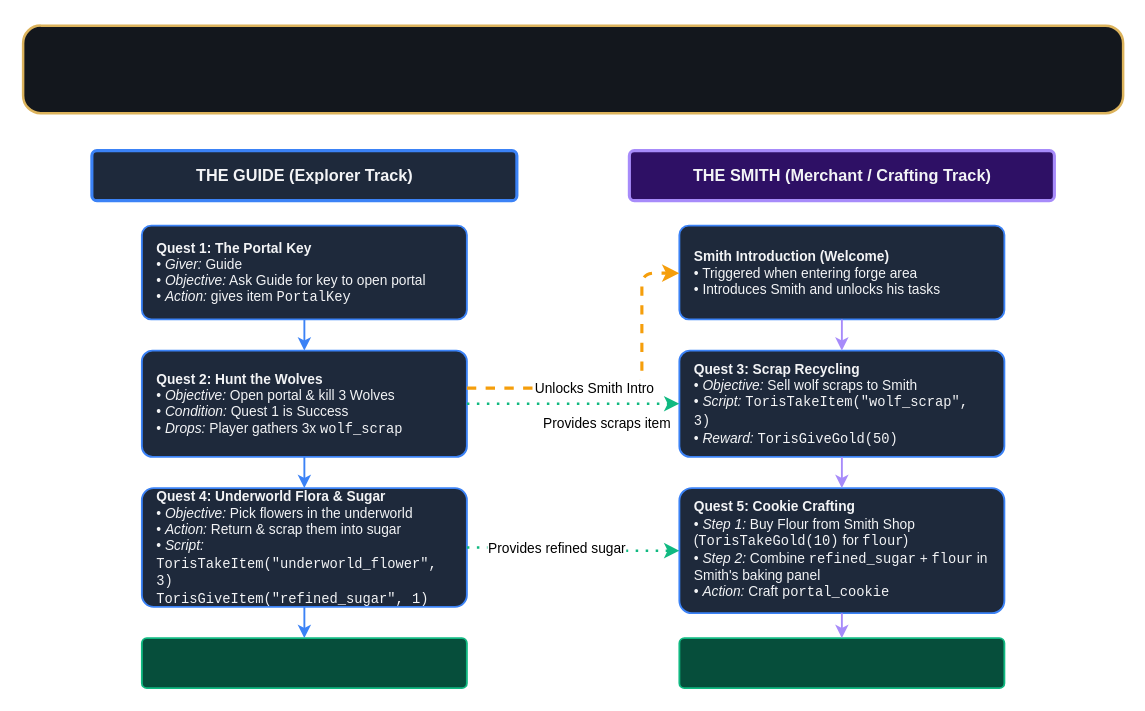
Image size: 1145x711. Some labels were removed from this diagram. The centre of each missing label's shape, as x and y in pixels:
"Guide Exploration Questline Done" goes at pixel 303 662.
"Smith Shop Questline Completed" goes at pixel 841 662.
"Toris Story & Quest Progression Pixel Crushers 5-Quest Narrative Flow" goes at pixel 572 69.
